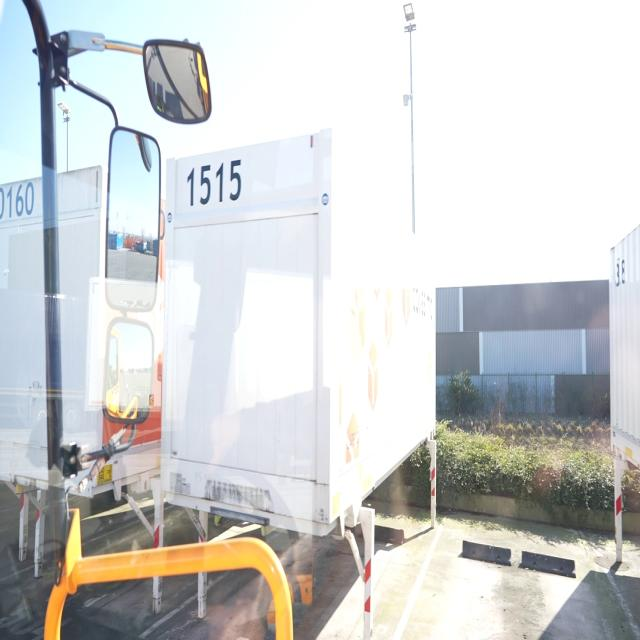Code: (183, 157, 248, 210)
